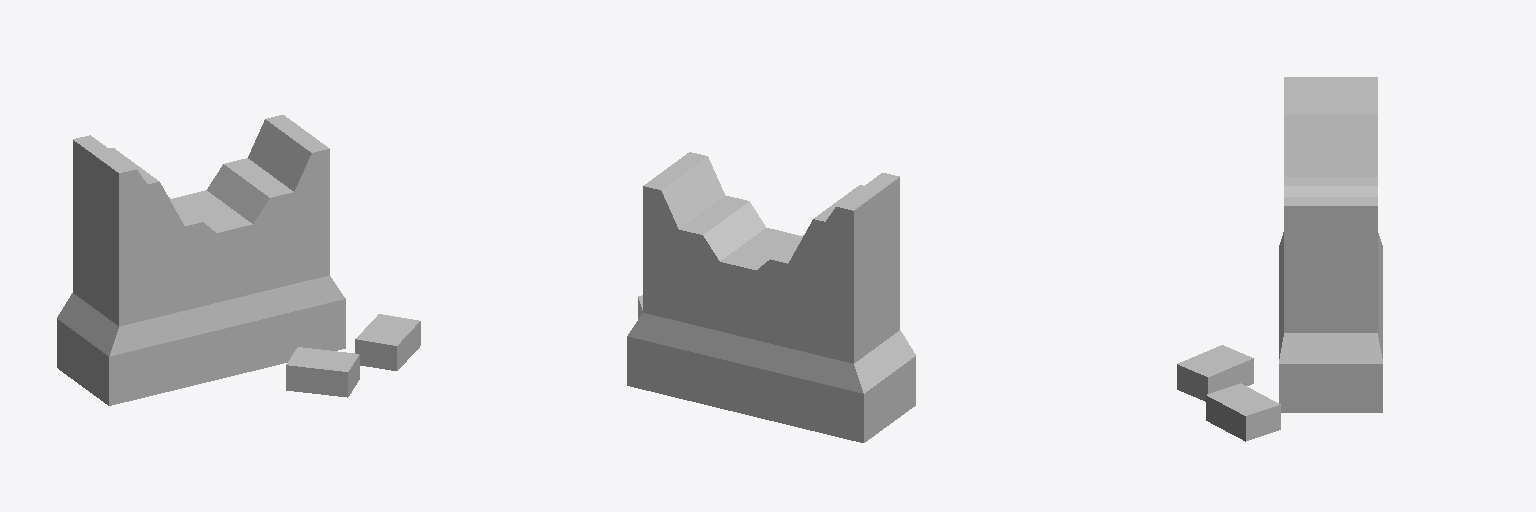
Rendered from gravestoneBroken.obj.
3 renders of one model, left to right at view 1: azimuth 30°, elevation 25°; view 2: azimuth 150°, elevation 25°; view 3: azimuth 270°, elevation 25°, orthographic.
Visible parts, largest first — view 1: gravestoneBroken; view 2: gravestoneBroken; view 3: gravestoneBroken.
Boxes of the visible parts, x1,y1,x2,y2 form: gravestoneBroken: [57, 115, 420, 405]; gravestoneBroken: [627, 152, 915, 442]; gravestoneBroken: [1177, 77, 1382, 441].
Size of the model in its own units: 0.4864 by 0.3581 by 0.2949.